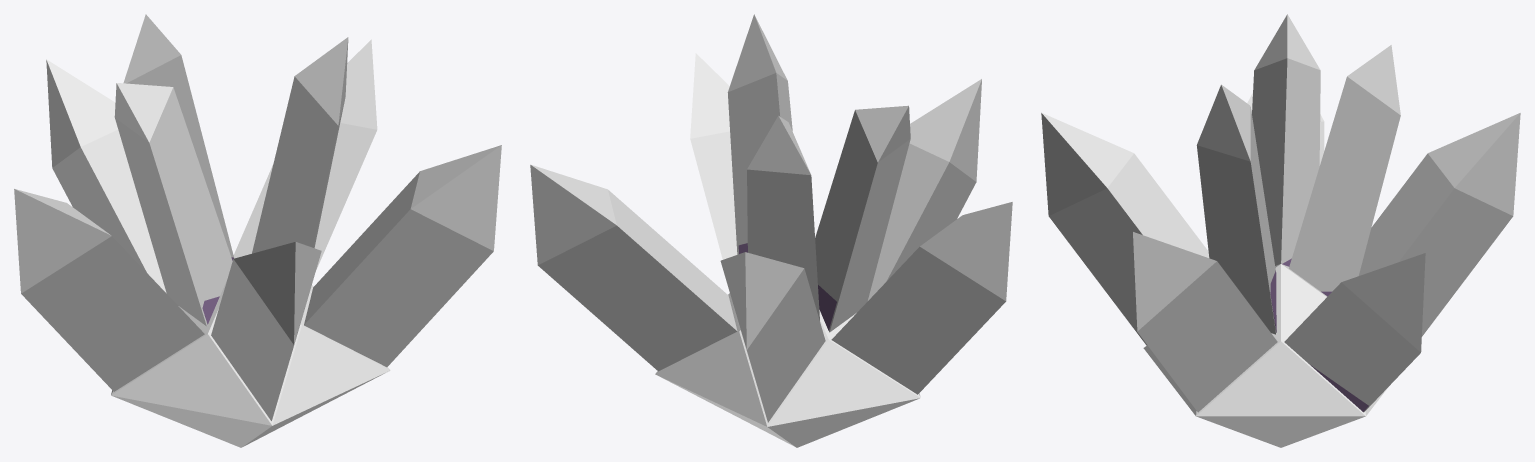
Rendered from resource__decoration__crystal__crystal-flower_2.fbx.
The picture shows the model from 3 angles, left to right: view 1: azimuth 30°, elevation 25°; view 2: azimuth 150°, elevation 25°; view 3: azimuth 270°, elevation 25°; orthographic projection. The views are drawn at different scales.
Parts seen in each view (by area): view 1: Crystal_Flower_2; view 2: Crystal_Flower_2; view 3: Crystal_Flower_2.
Boxes of the visible parts, x1,y1,x2,y2 form: Crystal_Flower_2: (14,14,501,447); Crystal_Flower_2: (530,14,1012,447); Crystal_Flower_2: (1041,14,1520,447).
Size of the model in its own units: 546 by 501 by 545.
